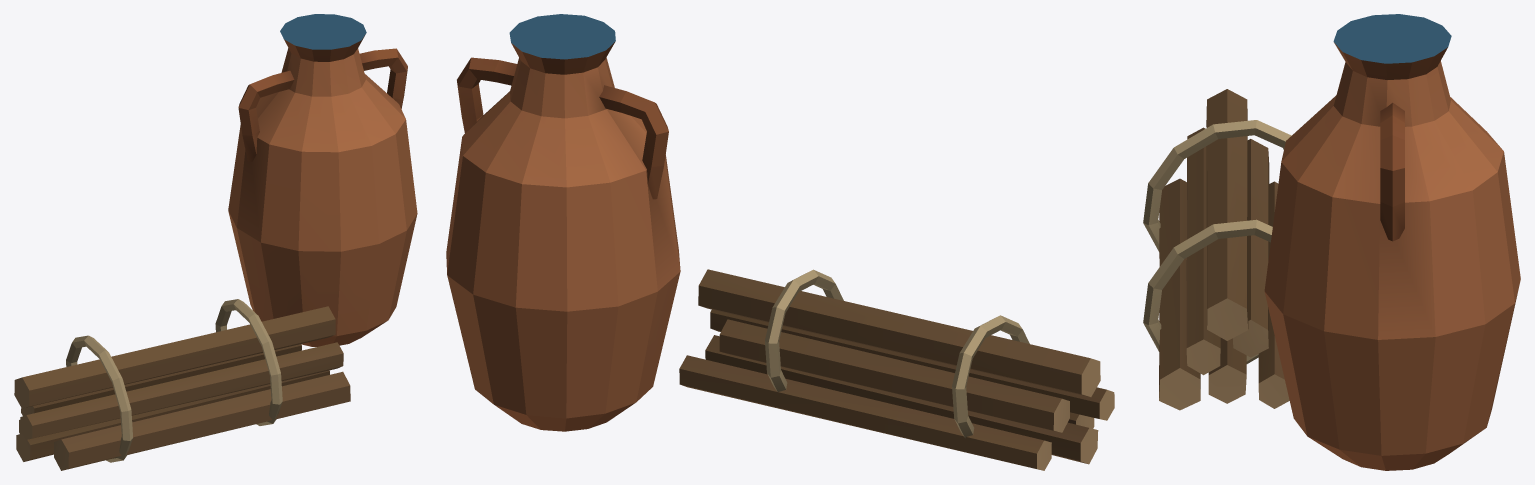
3 renders of one model, left to right at view 1: azimuth 30°, elevation 25°; view 2: azimuth 150°, elevation 25°; view 3: azimuth 270°, elevation 25°, orthographic. The views are drawn at different scales.
Visible parts, largest first — view 1: base; view 2: base; view 3: base.
Boxes of the visible parts, x1,y1,x2,y2 form: base: (14,14,417,470); base: (446,14,1114,470); base: (1143,14,1520,470).
Bounding box in the file's own units: 0.6029 × 0.3952 × 0.3195.
